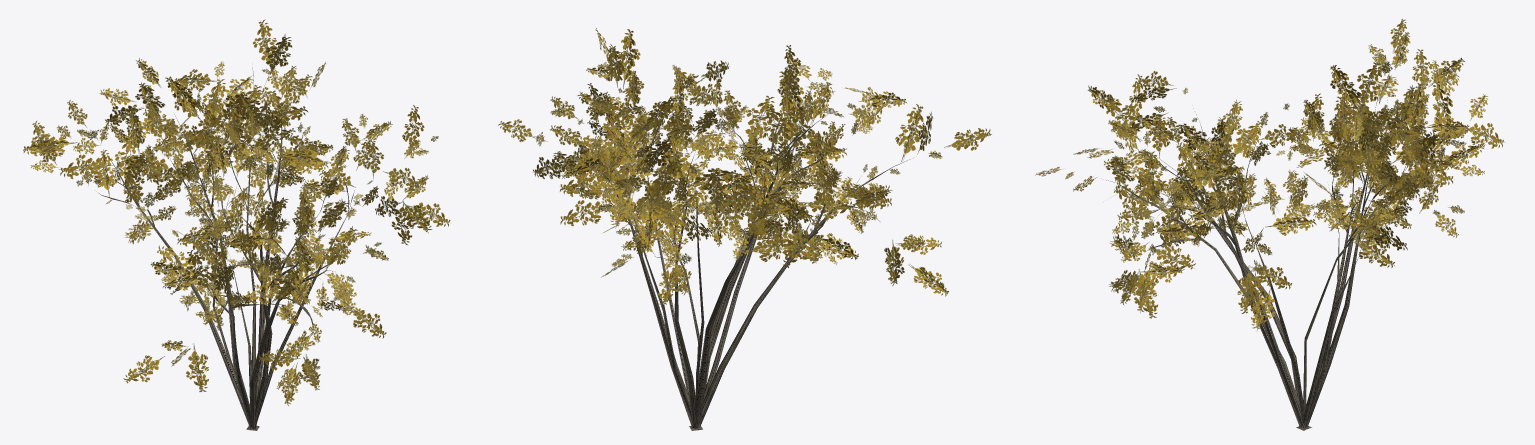
File: arbusto_2.glb
The picture shows the model from 3 angles, left to right: view 1: azimuth 30°, elevation 25°; view 2: azimuth 150°, elevation 25°; view 3: azimuth 270°, elevation 25°; orthographic projection. The views are drawn at different scales.
Visible parts, largest first — view 1: arbusto_2_hojas, arbusto_2_ramas; view 2: arbusto_2_hojas, arbusto_2_ramas; view 3: arbusto_2_hojas, arbusto_2_ramas.
Boxes of the visible parts, x1=… form: arbusto_2_hojas: x1=23, y1=19, x2=450, y2=406; arbusto_2_ramas: x1=99, y1=97, x2=354, y2=430; arbusto_2_hojas: x1=498, y1=28, x2=991, y2=306; arbusto_2_ramas: x1=583, y1=92, x2=910, y2=430; arbusto_2_hojas: x1=1035, y1=18, x2=1504, y2=331; arbusto_2_ramas: x1=1106, y1=91, x2=1410, y2=430.
Bounding box in the file's own units: 1.56 × 1.51 × 1.71.
Materials: 2 (2 with a texture image).
